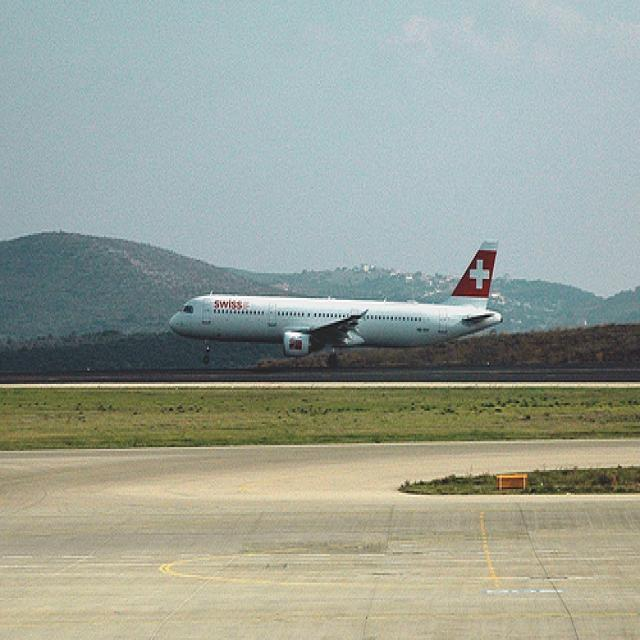aeroplane: (169, 238, 505, 370)
